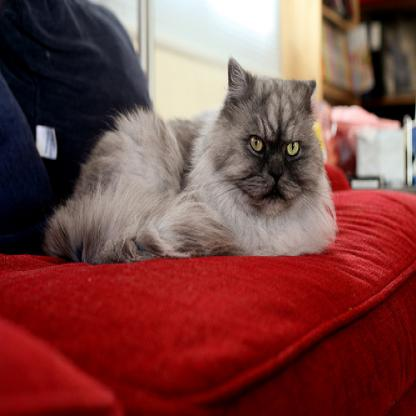cat: (43, 55, 339, 266)
sofa: (0, 0, 415, 415)
